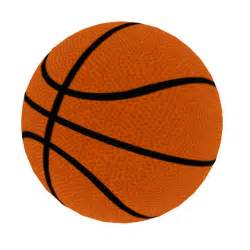basketball: (18, 20, 223, 224)
